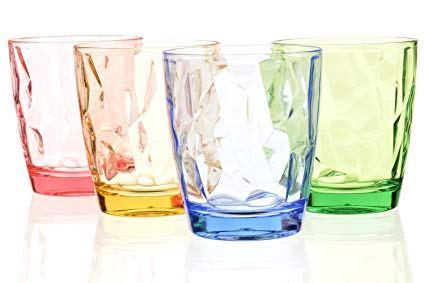plastic_glass: (3, 22, 185, 245), (148, 35, 330, 255), (51, 15, 215, 245), (260, 7, 420, 241)
